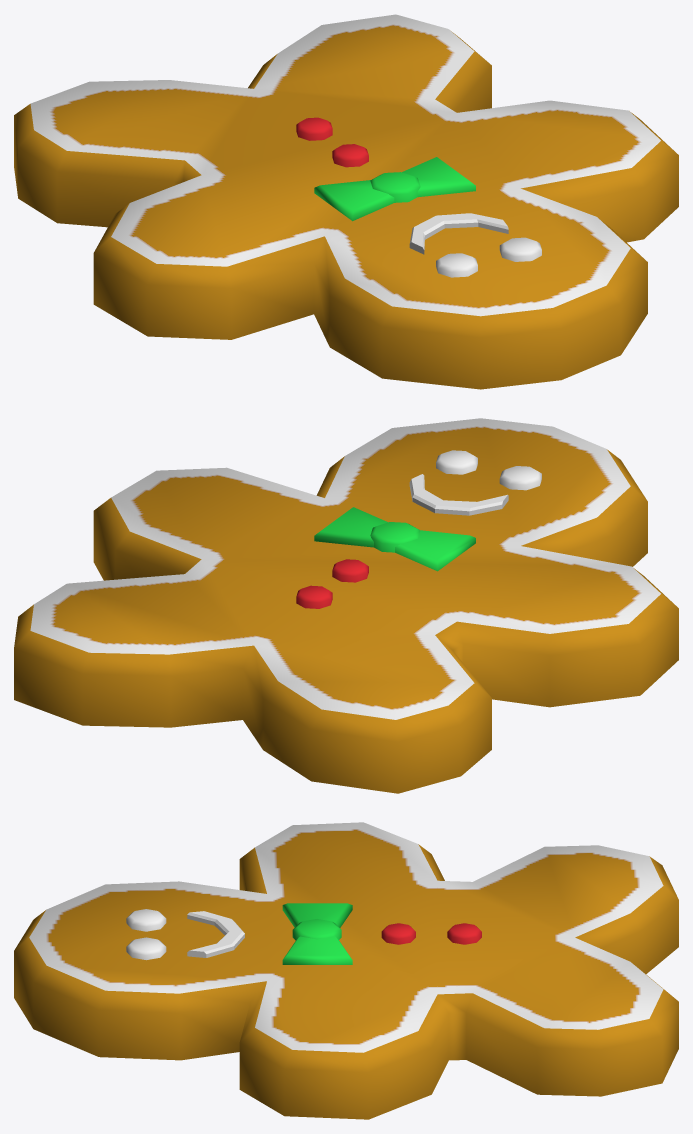
Rendered from Banh quy Gingerbread.FBX.
3 renders of one model, top to bottom at view 1: azimuth 30°, elevation 25°; view 2: azimuth 150°, elevation 25°; view 3: azimuth 270°, elevation 25°, orthographic. The views are drawn at different scales.
Parts seen in each view (by area): view 1: Box1231; view 2: Box1231; view 3: Box1231.
Boxes of the visible parts, x1,y1,x2,y2 form: Box1231: (14,14,678,389); Box1231: (14,418,678,793); Box1231: (14,822,678,1119).
Size of the model in its own units: 1.64 by 0.2225 by 1.89.
